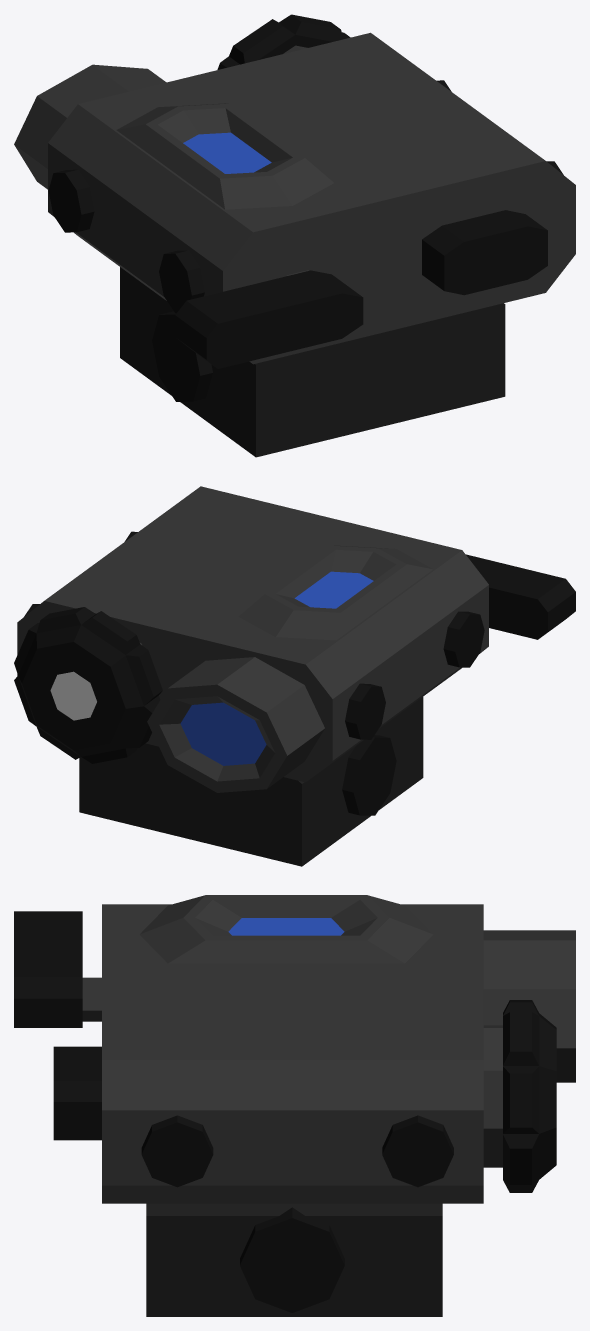
File: Laser Attachment.glb
The picture shows the model from 3 angles, top to bottom: view 1: azimuth 30°, elevation 25°; view 2: azimuth 150°, elevation 25°; view 3: azimuth 270°, elevation 25°; orthographic projection. The views are drawn at different scales.
Visible parts, largest first — view 1: Laser_West; view 2: Laser_West; view 3: Laser_West.
Part boxes in pixels (bbox=[...]): Laser_West: bbox=[14, 14, 575, 457]; Laser_West: bbox=[14, 486, 575, 866]; Laser_West: bbox=[14, 895, 575, 1316].
Size of the model in its own units: 0.0844 by 0.0499 by 0.0891.
